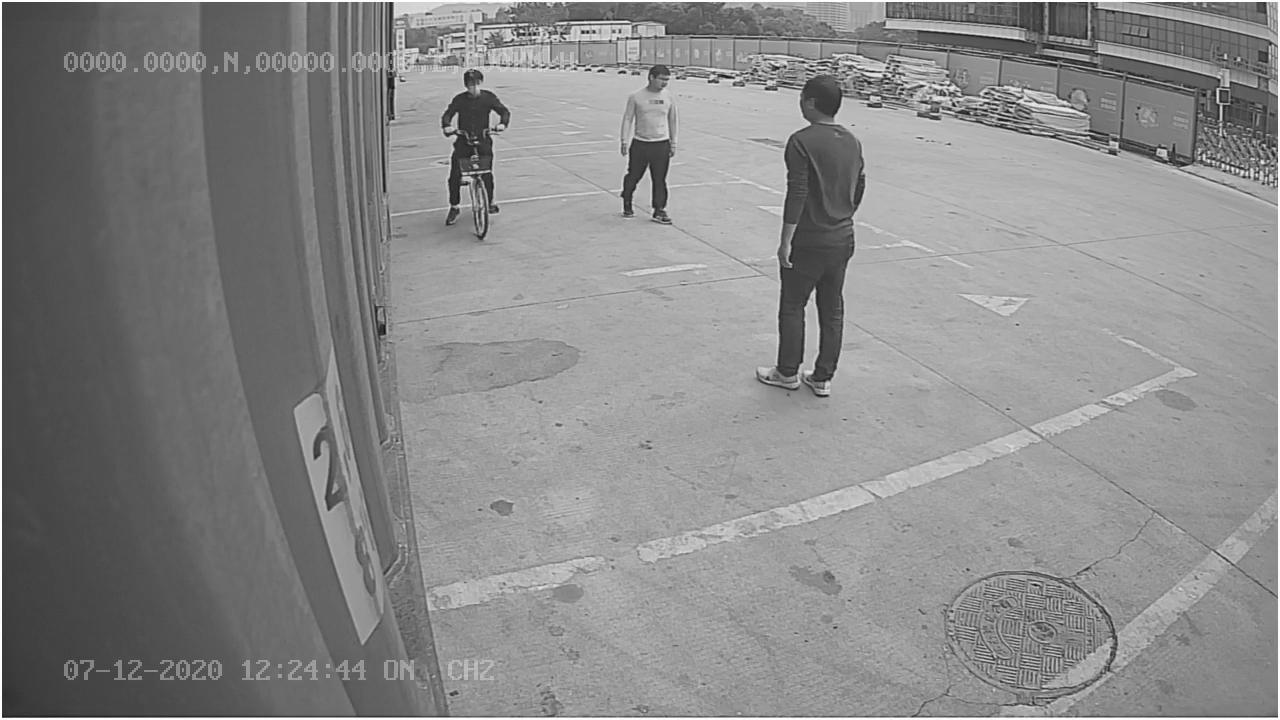person: (749, 71, 875, 401), (614, 65, 683, 228)
